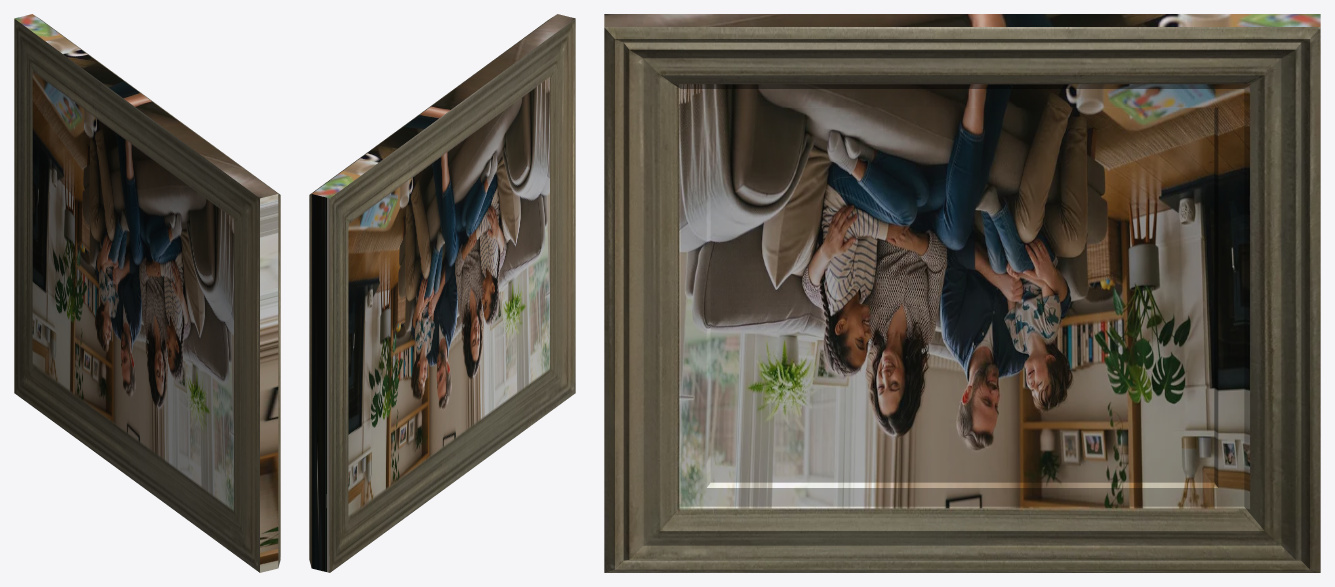
3 views of the same model, side by side, from view 1: azimuth 30°, elevation 25°; view 2: azimuth 150°, elevation 25°; view 3: azimuth 270°, elevation 25° (orthographic). The views are drawn at different scales.
Parts seen in each view (by area): view 1: Object_4; view 2: Object_4; view 3: Object_4.
Part boxes in pixels (left/top/right/bottom): Object_4: left=14, top=14, right=280, bottom=572; Object_4: left=309, top=14, right=575, bottom=572; Object_4: left=604, top=14, right=1320, bottom=572.
Bounding box in the file's own units: 2.25 × 32.2 × 38.3.
Materials: 1 (1 with a texture image).
